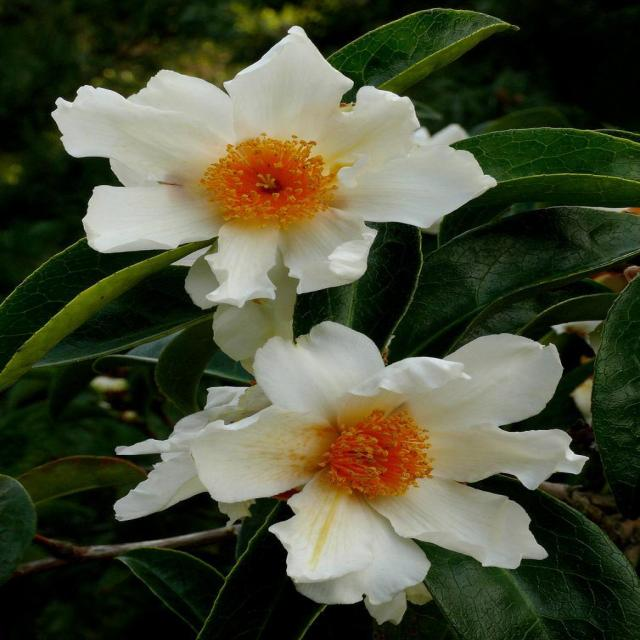organic waste: (110, 314, 592, 605), (35, 30, 498, 295)
